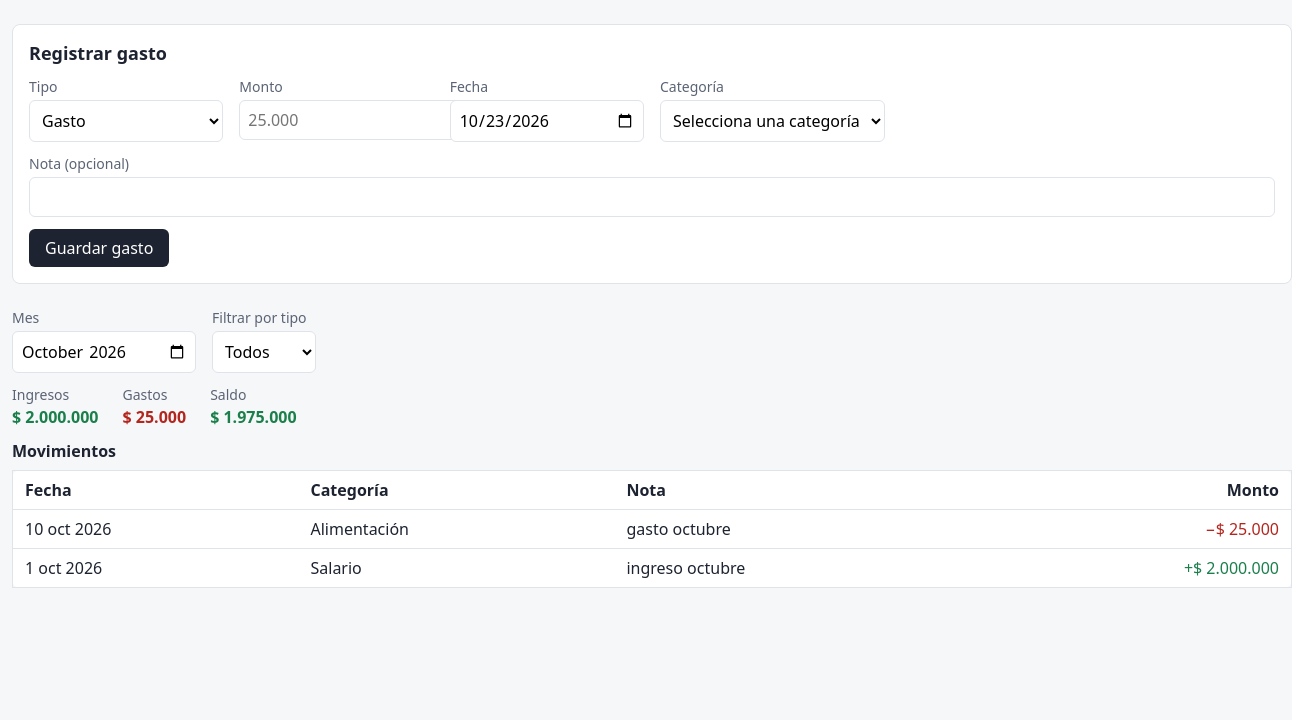
Test case: TransactionsPage · period filter (RDF-9) › filters by type and shows only the total of that type
This screenshot has width=1292, height=720.
Expected: the text "gasto octubre" is shown, [614,510,983,548]
Select "Gastos" in the dropdown labelled "Filtrar por tipo": (264, 352) [212,331,316,373]
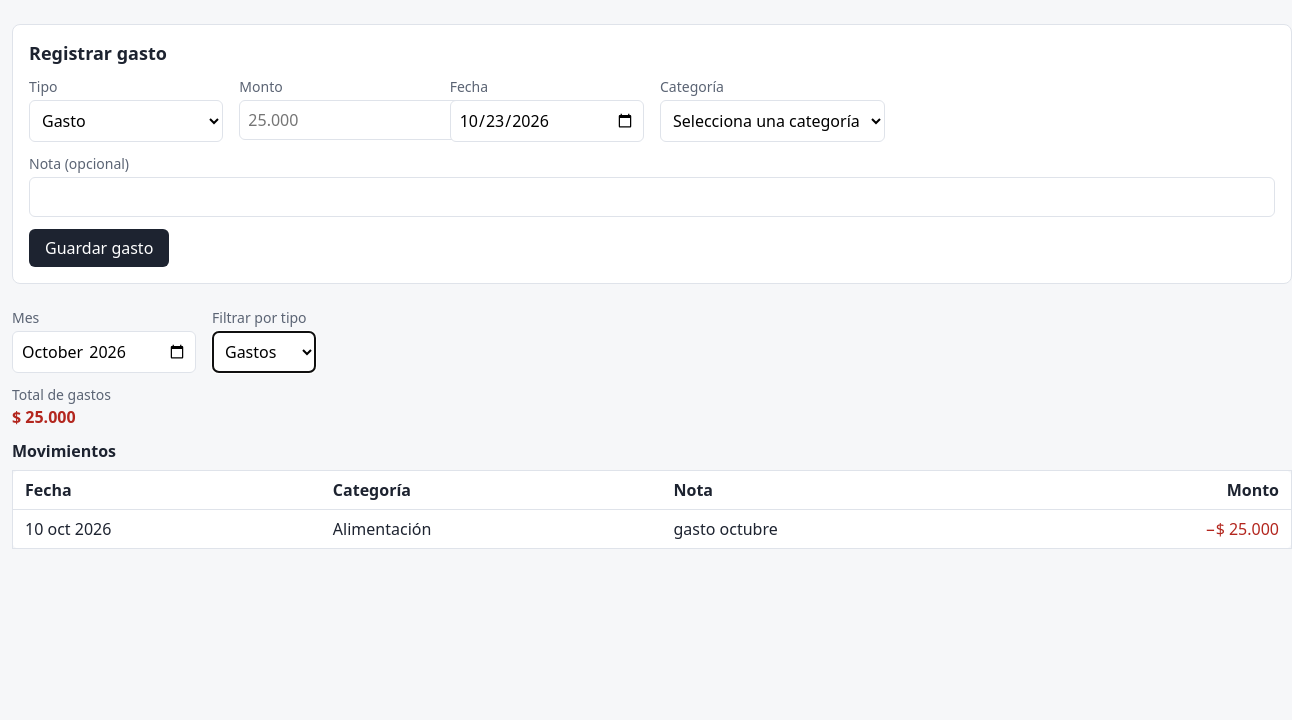
Expected: the text "gasto octubre" is shown, [662,510,1018,548]
Result: the text "ingreso octubre" is gone
Result: the text "Saldo" is gone
